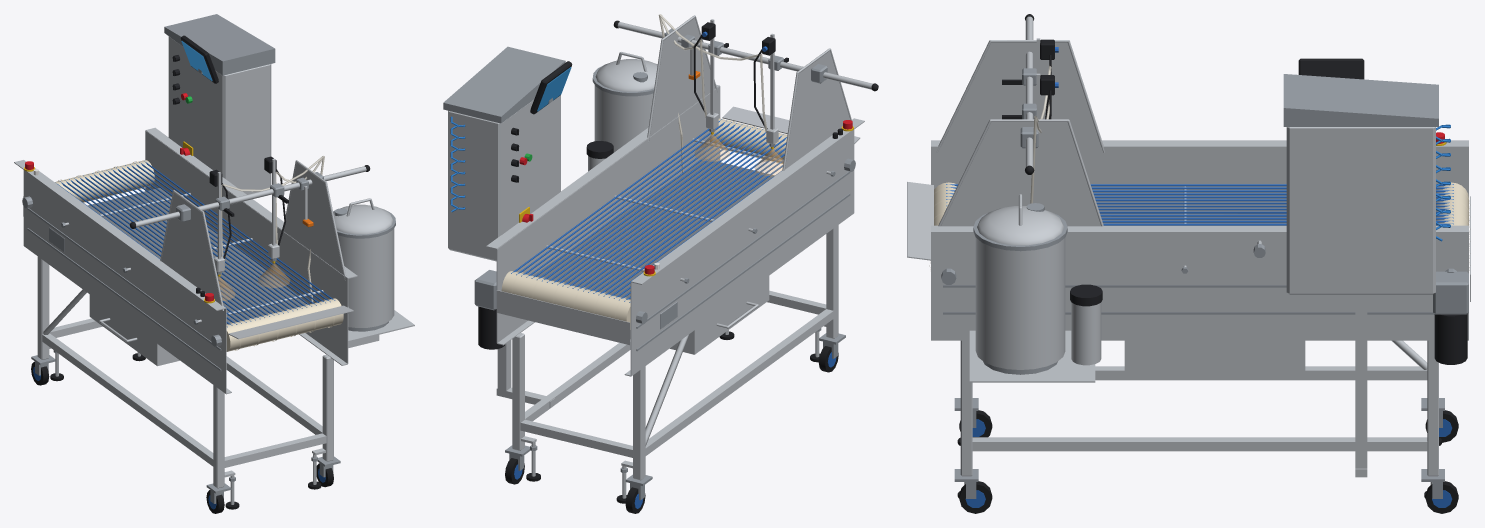
The model's file is syrup_sprayer.glb.
3 views of the same model, side by side, from view 1: azimuth 30°, elevation 25°; view 2: azimuth 150°, elevation 25°; view 3: azimuth 270°, elevation 25° (orthographic). The views are drawn at different scales.
Parts seen in each view (by area): view 1: Body, Belt, Roller_In, SprayHead, Roller_Out, Spray; view 2: Body, Belt, Roller_Out, SprayHead, Roller_In, Spray; view 3: Body, Belt, SprayHead, Roller_Out.
Part boxes in pixels (x1,y1,x2,y2): Body: (14,14,414,513); Belt: (55,161,335,327); Roller_In: (226,298,343,351); SprayHead: (209,156,288,276); Roller_Out: (55,160,154,203); Spray: (218,263,289,300); Body: (443,14,878,513); Belt: (511,119,786,302); Roller_Out: (501,271,630,329); SprayHead: (693,19,788,149); Roller_In: (710,118,787,163); Spray: (694,135,783,175); Body: (907,14,1470,513); Belt: (946,184,1453,225); SprayHead: (1002,38,1058,119); Roller_Out: (1436,182,1470,270).
Size of the model in its own units: 1.35 by 1.68 by 1.89.
